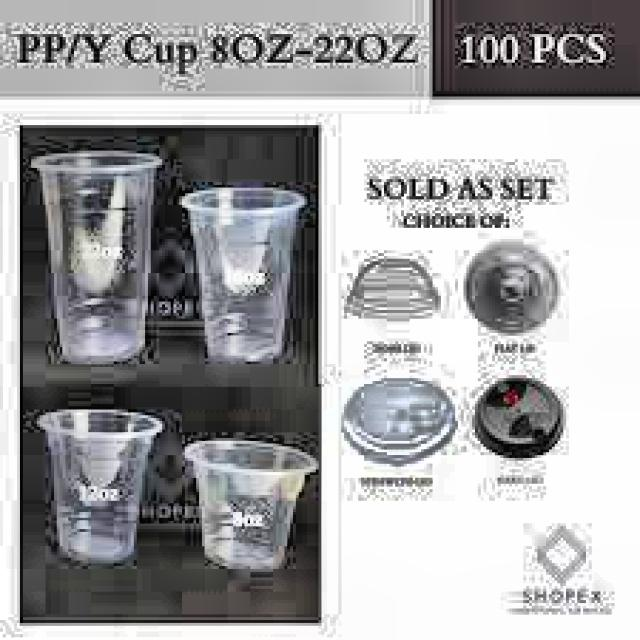plastic cup: (32, 143, 165, 361), (178, 180, 308, 368), (38, 405, 155, 567), (186, 435, 312, 567)
